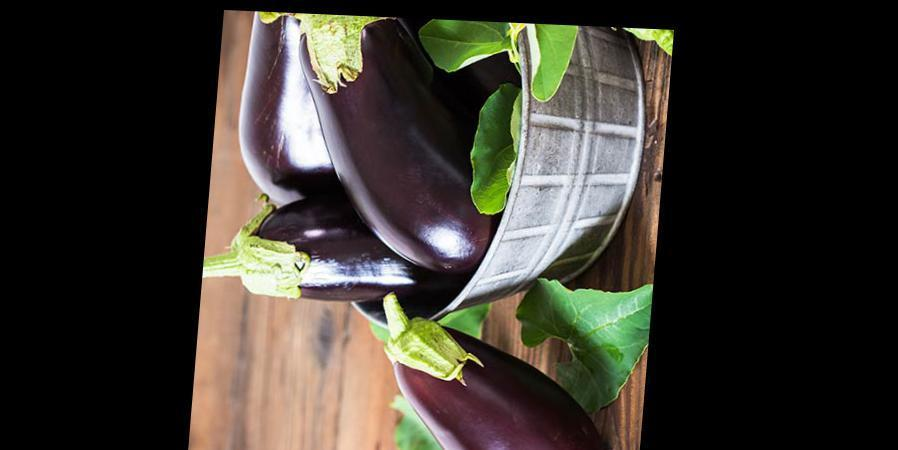eggplant: (223, 8, 630, 449)
